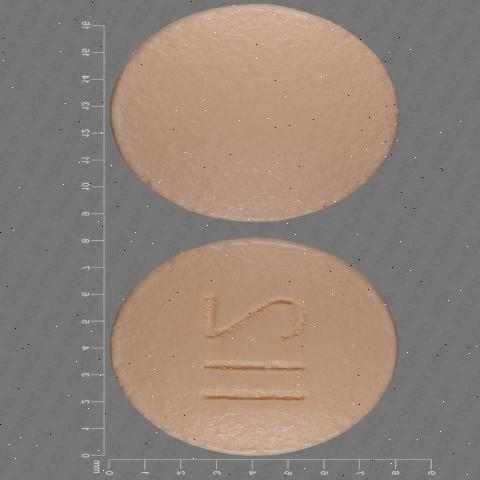Pill: (78, 230, 404, 458), (87, 2, 413, 228)
